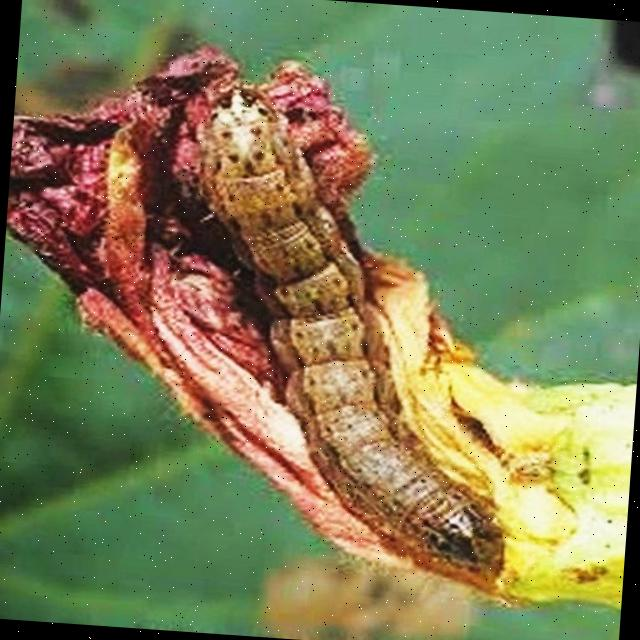worm: (1, 24, 640, 640), (166, 76, 541, 587)
